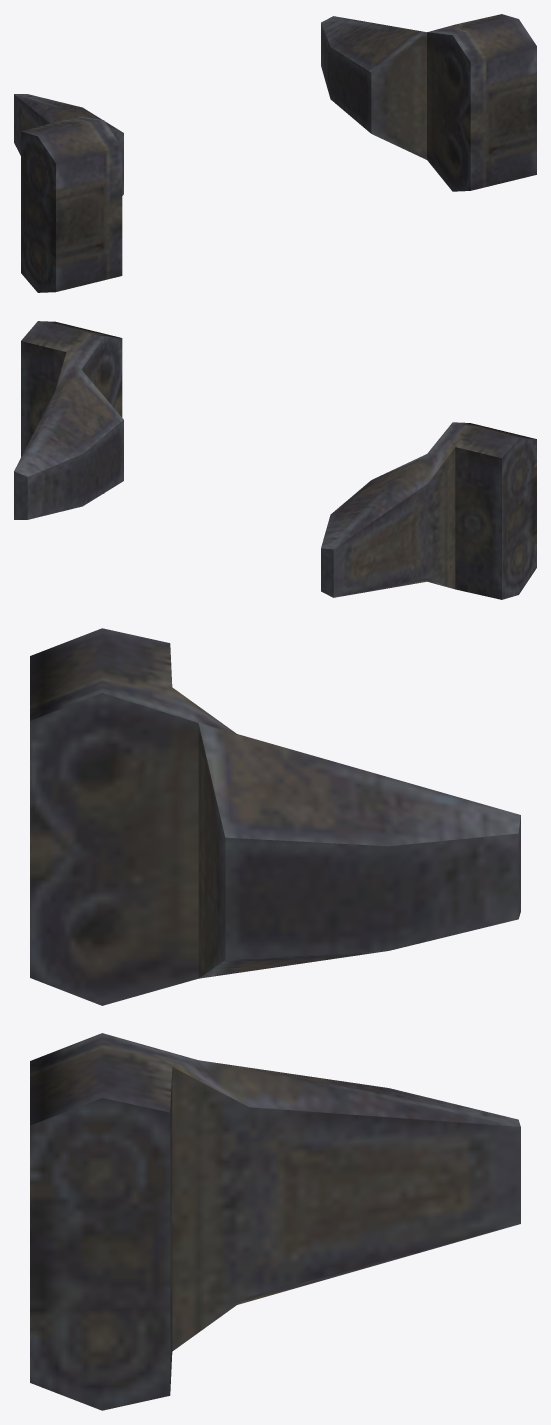
The picture shows the model from 3 angles, top to bottom: view 1: azimuth 30°, elevation 25°; view 2: azimuth 150°, elevation 25°; view 3: azimuth 270°, elevation 25°; orthographic projection. The views are drawn at different scales.
Parts seen in each view (by area): view 1: set_0_group_0; view 2: set_0_group_0; view 3: set_0_group_0.
Boxes of the visible parts, x1=… form: set_0_group_0: x1=14, y1=14, x2=536, y2=292; set_0_group_0: x1=14, y1=321, x2=536, y2=599; set_0_group_0: x1=30, y1=628, x2=520, y2=1410.
Size of the model in its own units: 0.423 by 0.1315 by 0.1868.
1 material, 1 textured.
